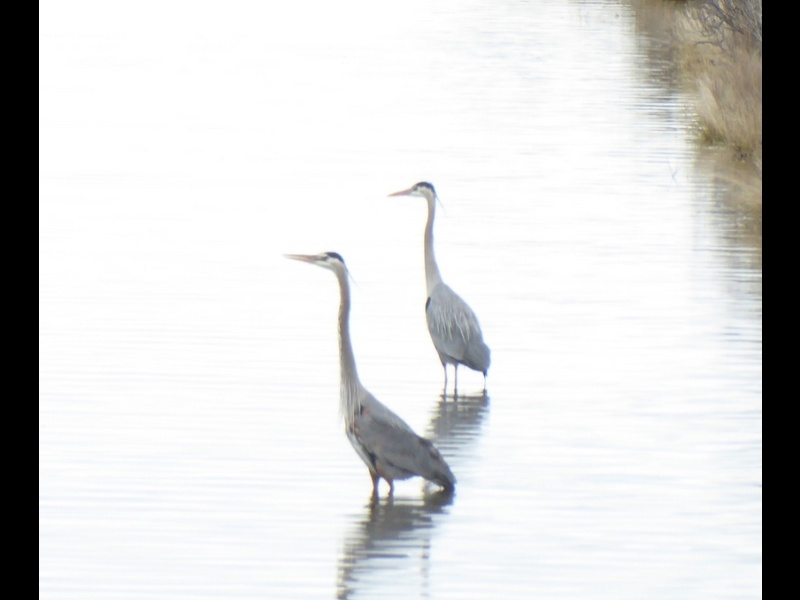heron: (280, 246, 457, 509), (385, 172, 493, 392)
